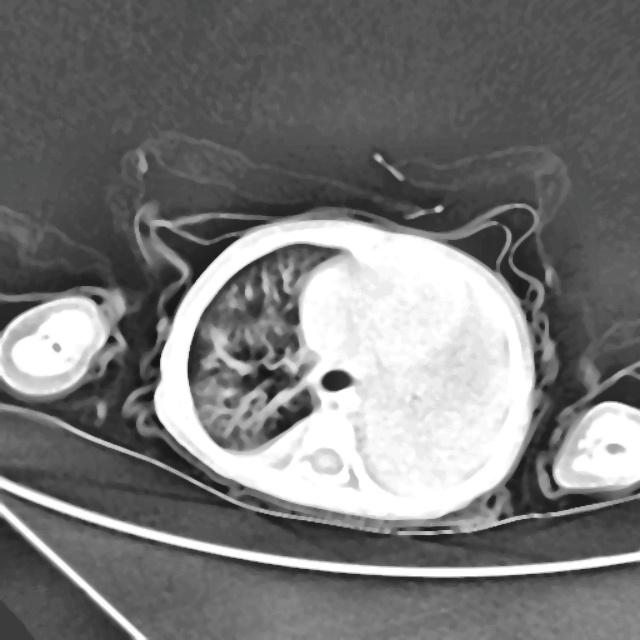covid: (152, 209, 542, 526)
